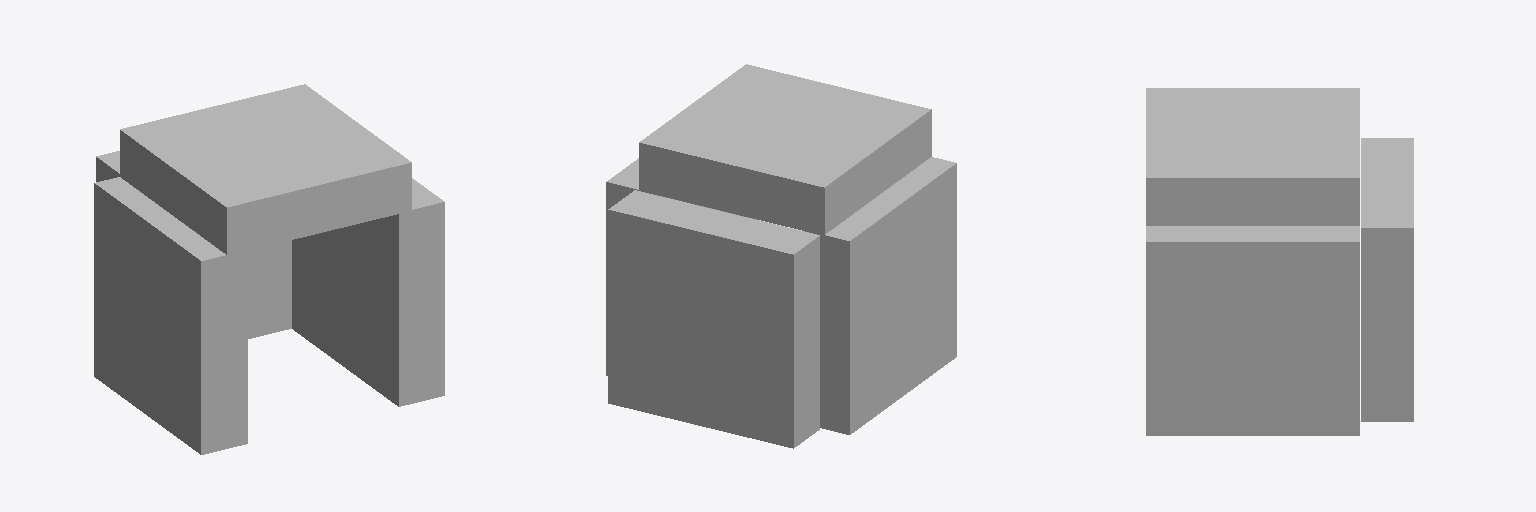
Rendered from start.obj.
The picture shows the model from 3 angles: view 1: azimuth 30°, elevation 25°; view 2: azimuth 150°, elevation 25°; view 3: azimuth 270°, elevation 25°; orthographic projection.
Parts seen in each view (by area): view 1: Cube.002_Cube.003, Cube_Cube.001, Cube.001_Cube.002, Cube.003_Cube.004; view 2: Cube.003_Cube.004, Cube.002_Cube.003, Cube_Cube.001, Cube.001_Cube.002; view 3: Cube.001_Cube.002, Cube.002_Cube.003, Cube.003_Cube.004.
Part boxes in pixels (bbox=[...]): Cube.002_Cube.003: bbox=[120, 84, 411, 254]; Cube_Cube.001: bbox=[94, 177, 247, 454]; Cube.001_Cube.002: bbox=[292, 178, 444, 406]; Cube.003_Cube.004: bbox=[96, 151, 291, 338]; Cube.003_Cube.004: bbox=[608, 190, 819, 448]; Cube.002_Cube.003: bbox=[639, 64, 931, 235]; Cube_Cube.001: bbox=[805, 157, 956, 434]; Cube.001_Cube.002: bbox=[606, 158, 756, 375]; Cube.001_Cube.002: bbox=[1146, 226, 1359, 435]; Cube.002_Cube.003: bbox=[1146, 88, 1359, 225]; Cube.003_Cube.004: bbox=[1361, 138, 1413, 421].
Size of the model in its own units: 2.63 by 2.49 by 2.51.